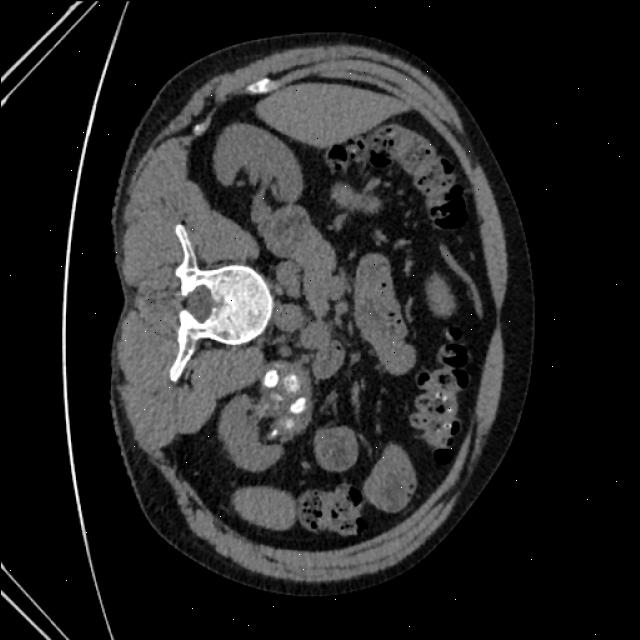kidneystone: (282, 374, 300, 392), (263, 369, 278, 388), (291, 402, 295, 411)
